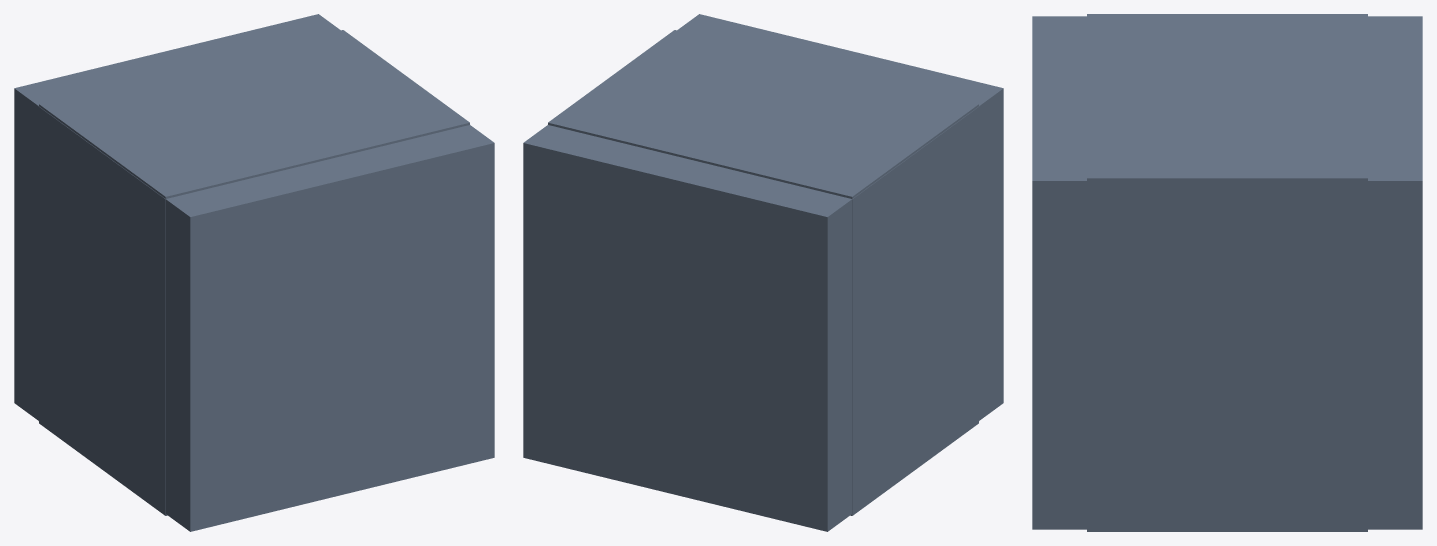
File: bb_comp_GripRig_ProgressBacking.fbx
3 views of the same model, side by side, from view 1: azimuth 30°, elevation 25°; view 2: azimuth 150°, elevation 25°; view 3: azimuth 270°, elevation 25° (orthographic). The views are drawn at different scales.
Visible parts, largest first — view 1: bb_comp_GripRig_ProgressBacking; view 2: bb_comp_GripRig_ProgressBacking; view 3: bb_comp_GripRig_ProgressBacking.
Boxes of the visible parts, box(x1,y1,x2,y2) form: bb_comp_GripRig_ProgressBacking: box(14, 14, 494, 531); bb_comp_GripRig_ProgressBacking: box(523, 14, 1003, 531); bb_comp_GripRig_ProgressBacking: box(1032, 14, 1422, 531).
Bounding box in the file's own units: 1 × 1 × 1.
